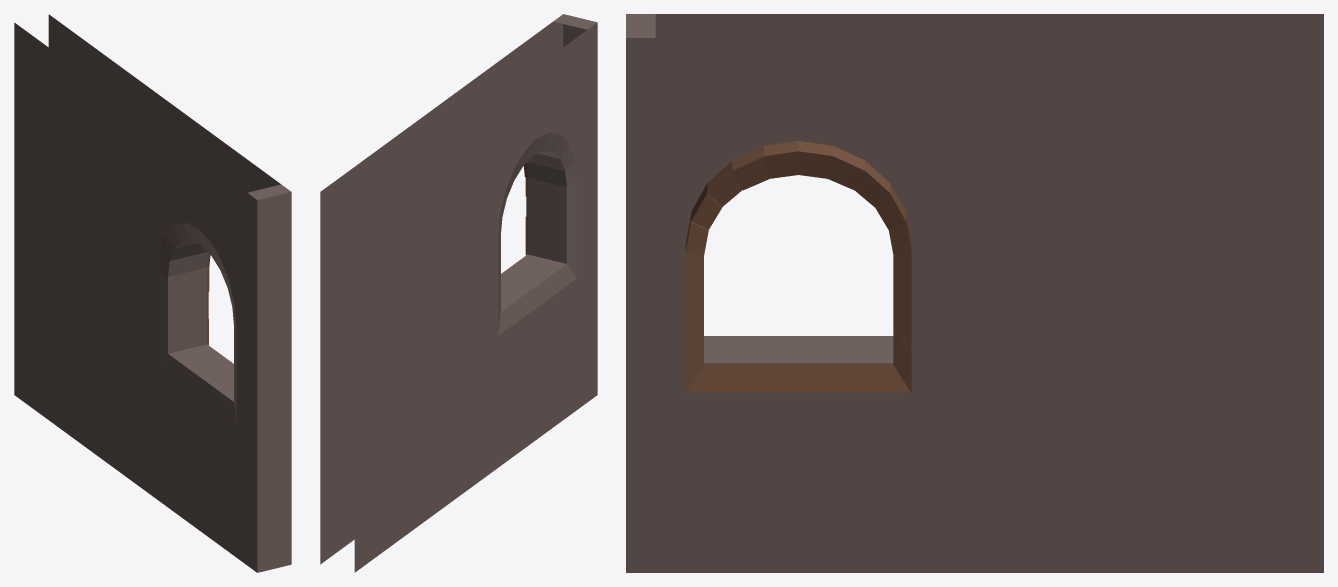
The model's file is Wall_RedBrick.fbx.
The picture shows the model from 3 angles, left to right: view 1: azimuth 30°, elevation 25°; view 2: azimuth 150°, elevation 25°; view 3: azimuth 270°, elevation 25°; orthographic projection. The views are drawn at different scales.
Parts seen in each view (by area): view 1: ArchwayWall; view 2: ArchwayWall; view 3: ArchwayWall.
Part boxes in pixels (x1,y1,x2,y2): ArchwayWall: (14, 14, 291, 572); ArchwayWall: (320, 14, 597, 572); ArchwayWall: (626, 14, 1323, 572).
Bounding box in the file's own units: 0.8321 × 6.01 × 7.1.
